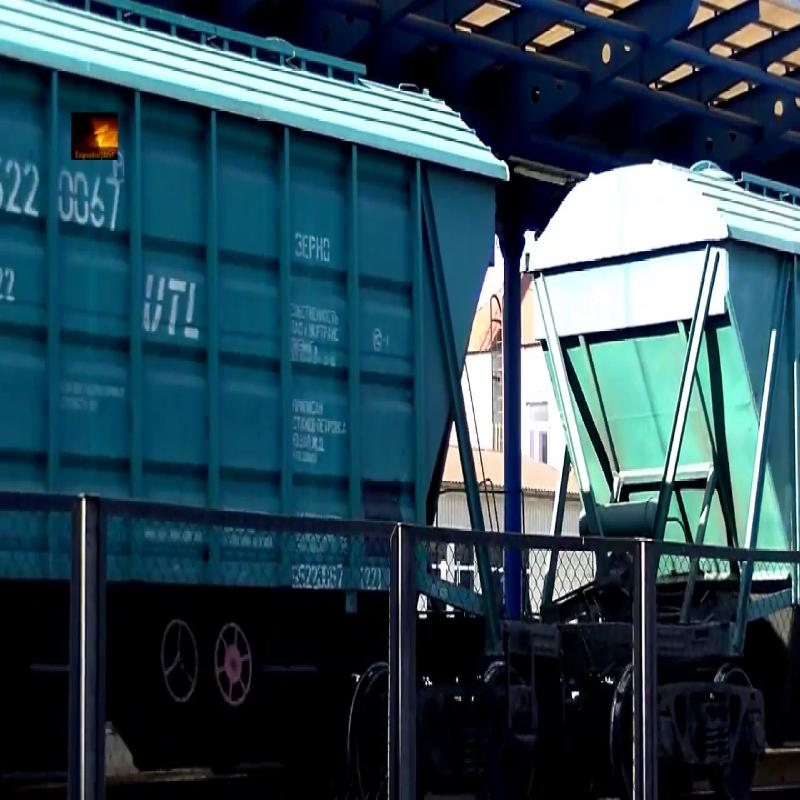train: (2, 12, 539, 774), (575, 10, 800, 775)
